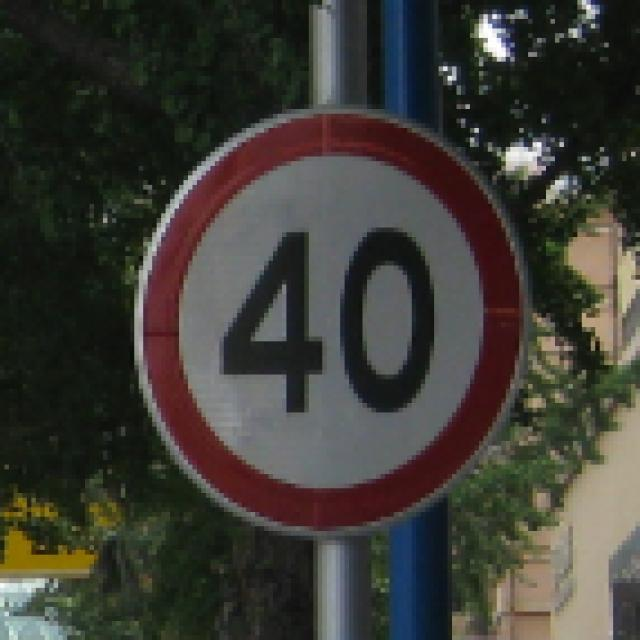Speed: (134, 102, 532, 538)
